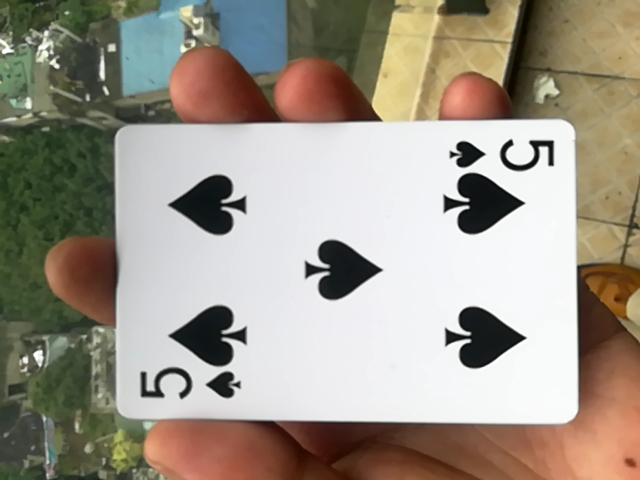ht 5: (93, 121, 578, 440)
